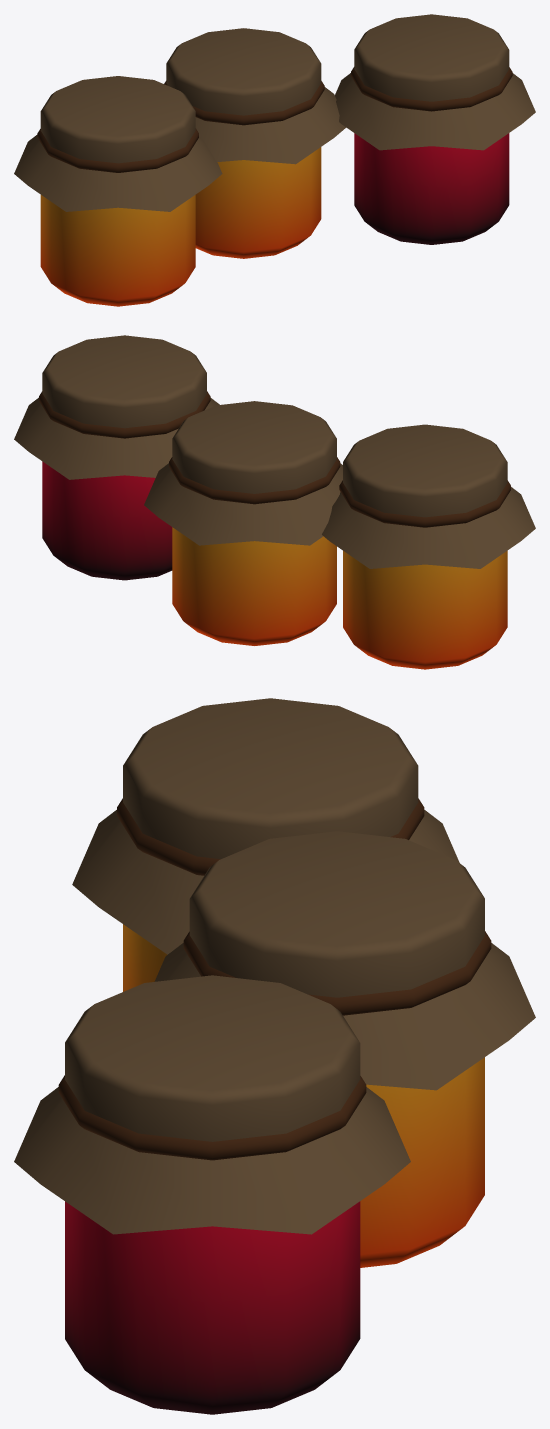
Rendered from Jar3.fbx.
3 views of the same model, one above another, from view 1: azimuth 30°, elevation 25°; view 2: azimuth 150°, elevation 25°; view 3: azimuth 270°, elevation 25° (orthographic). The views are drawn at different scales.
Parts seen in each view (by area): view 1: JarRow; view 2: JarRow; view 3: JarRow.
Part boxes in pixels (x1,y1,x2,y2): JarRow: (14,14,535,306); JarRow: (14,335,535,669); JarRow: (14,698,535,1414).
Size of the model in its own units: 27.18 by 9.45 by 13.48.
